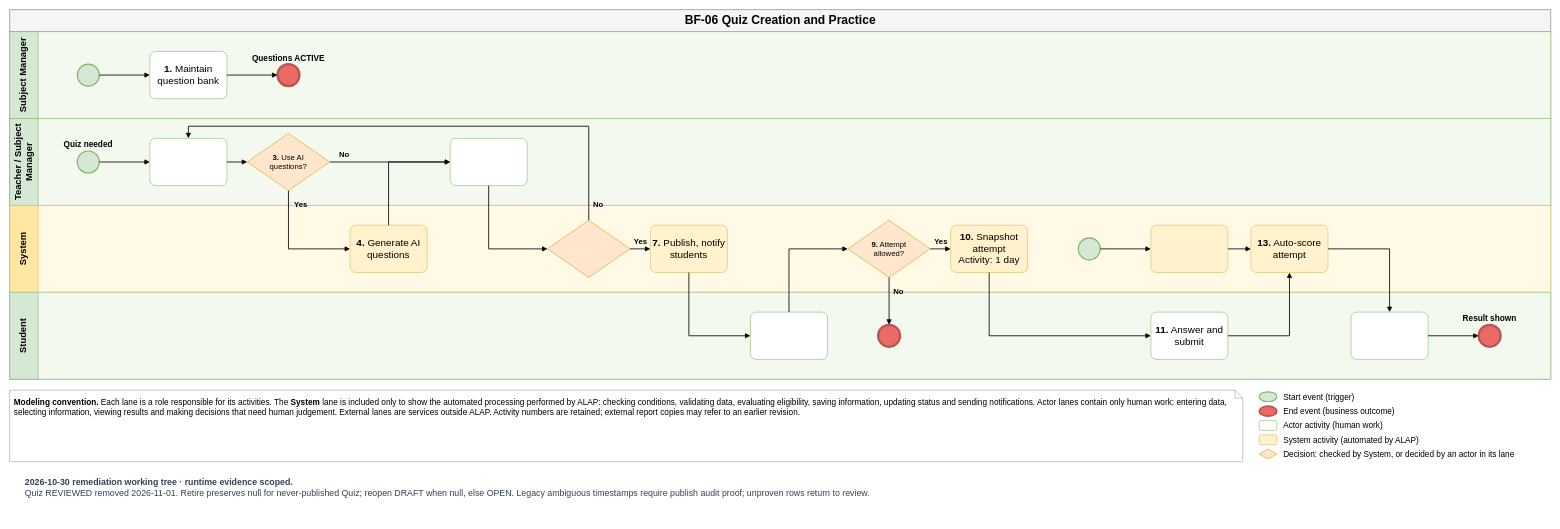
The diagram is 1560 pixels wide and 529 high, and some of its shapes have lost their labels. The shapes that lost their labels are listed below. From the top down, each one's centre as x and y in pixels, then its label:
the point at 88,74: Bank needs questions
the point at 188,162: 2. Build Quiz Attach to module
the point at 488,162: 5. Preview and review
the point at 588,248: 6. Quiz valid?
the point at 1089,248: Time limit reached
the point at 1189,249: 12. Auto-submit answers
the point at 788,335: 8. Start Quiz
the point at 889,335: Attempt refused
the point at 1389,335: 14. View result Practice only
